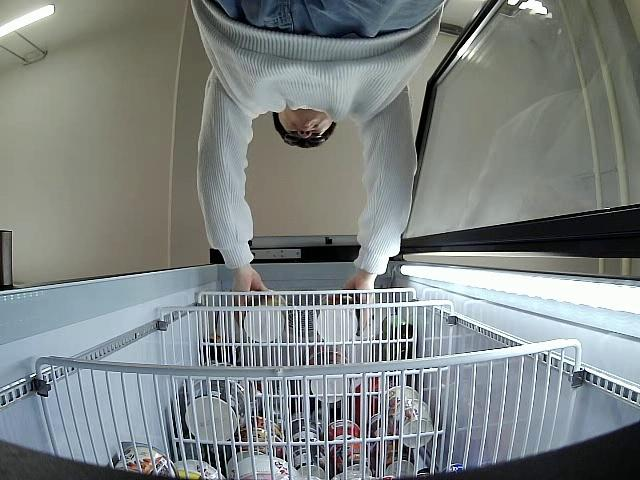00_hand: (329, 274, 375, 334), (233, 269, 275, 324)
03_chapagetti_L: (314, 293, 362, 343), (242, 293, 287, 345)
